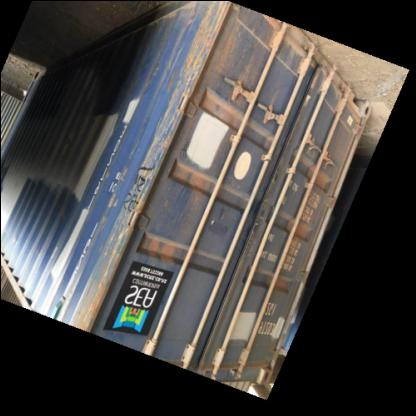Damage: (178, 19, 228, 87), (122, 152, 152, 238), (165, 166, 217, 196), (304, 163, 336, 198), (280, 220, 313, 246)
